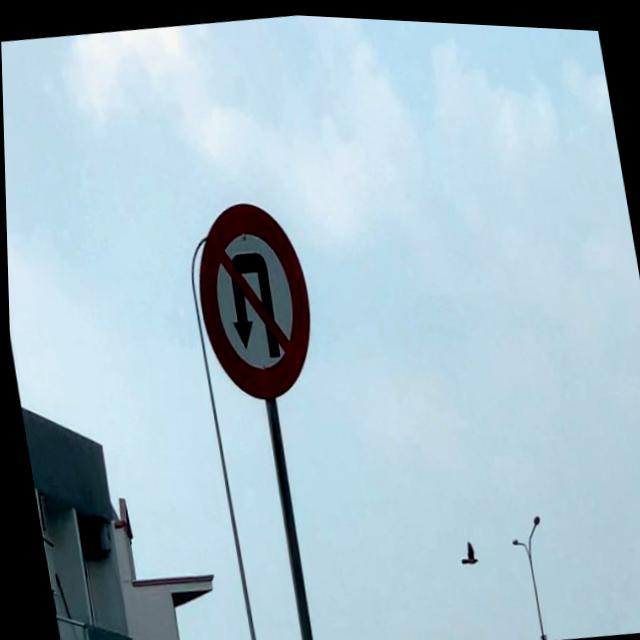Cam quay dau xe: (182, 185, 324, 419)
